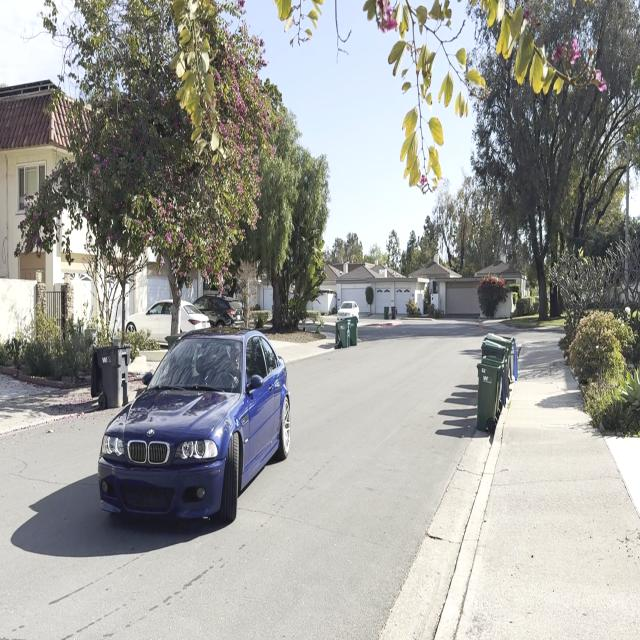Carbeetle: (92, 325, 295, 542)
